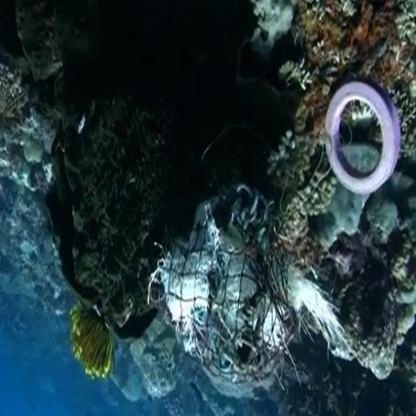net: (173, 190, 297, 380)
tire: (322, 70, 405, 180)
